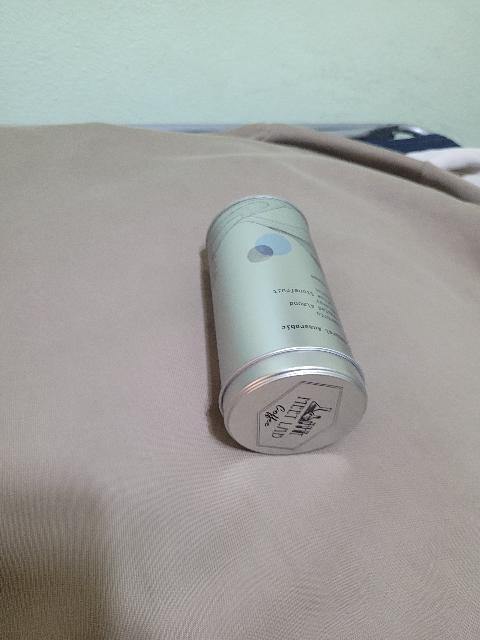Metal: (200, 195, 368, 460)
